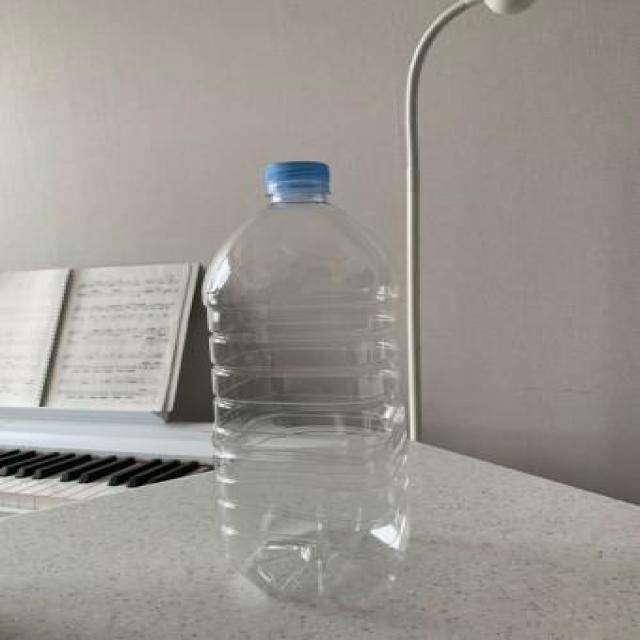bottle: (196, 159, 416, 610)
